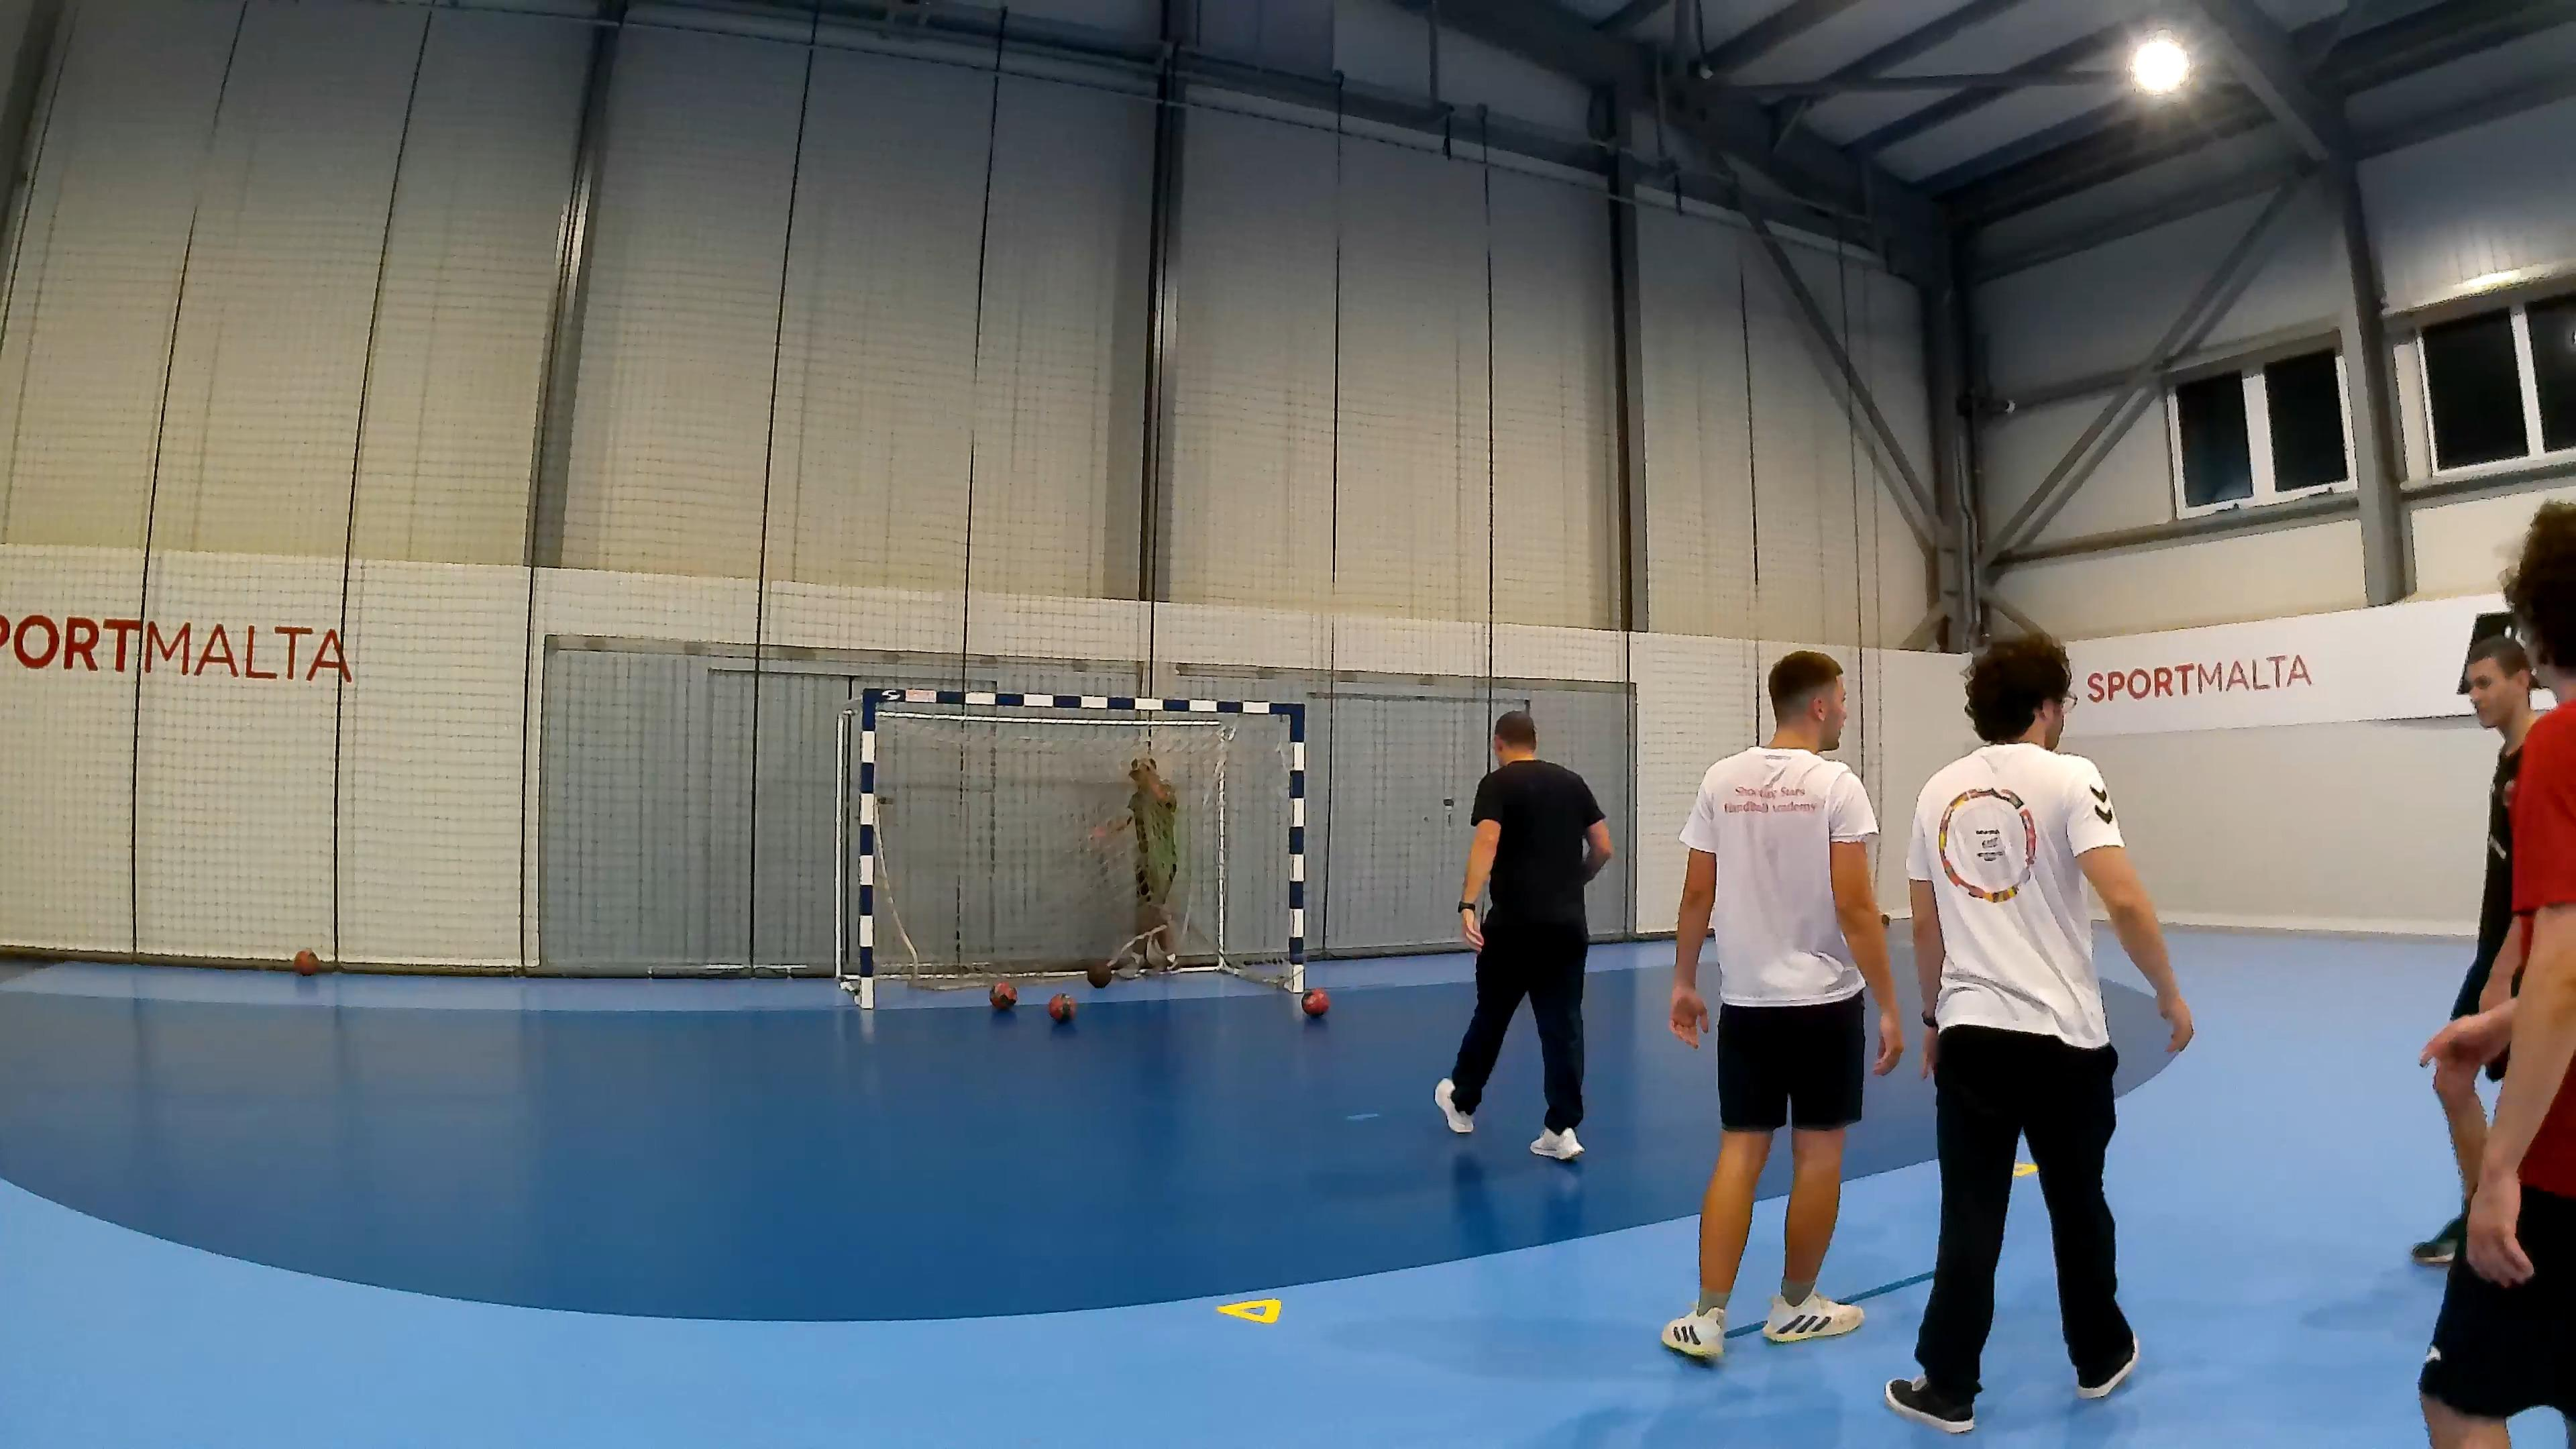handball: (1300, 987, 1329, 1016), (1047, 993, 1076, 1021), (989, 980, 1016, 1008), (292, 948, 318, 975)
